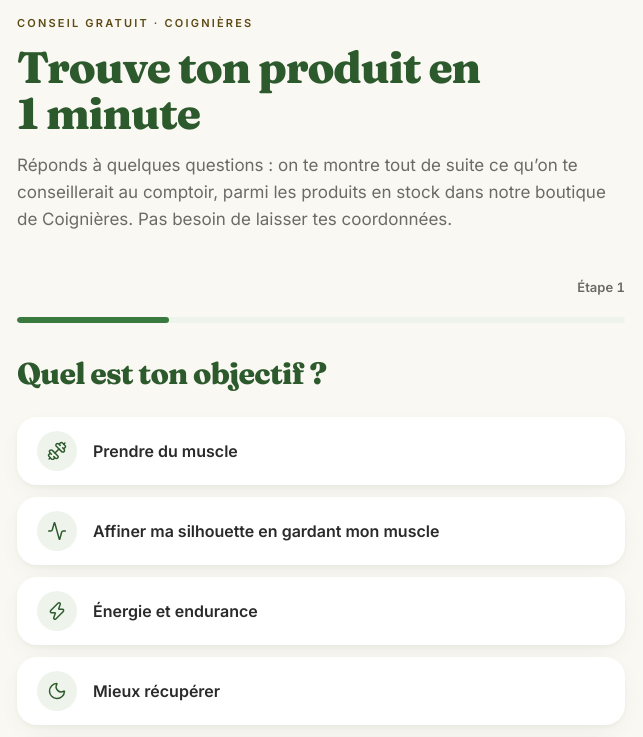
Test: écrans › autre objectif : 4 étapes, pas de question supplémentaire
This screenshot has width=643, height=737.
Click the button "Mieux récupérer": (57, 691) [17, 657, 625, 725]
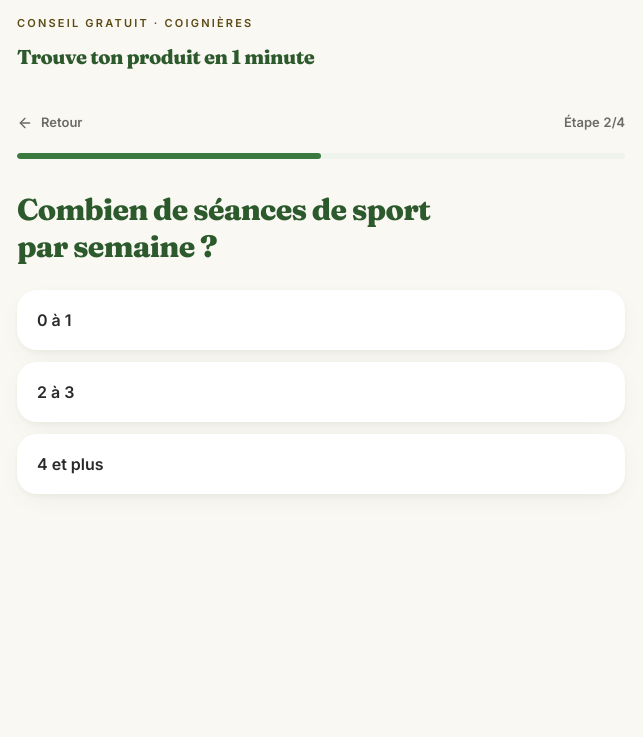
Now the text "Étape 2/4" is shown, box [564, 113, 625, 132]
Click the button "0 à 1": (54, 320) [17, 290, 625, 350]
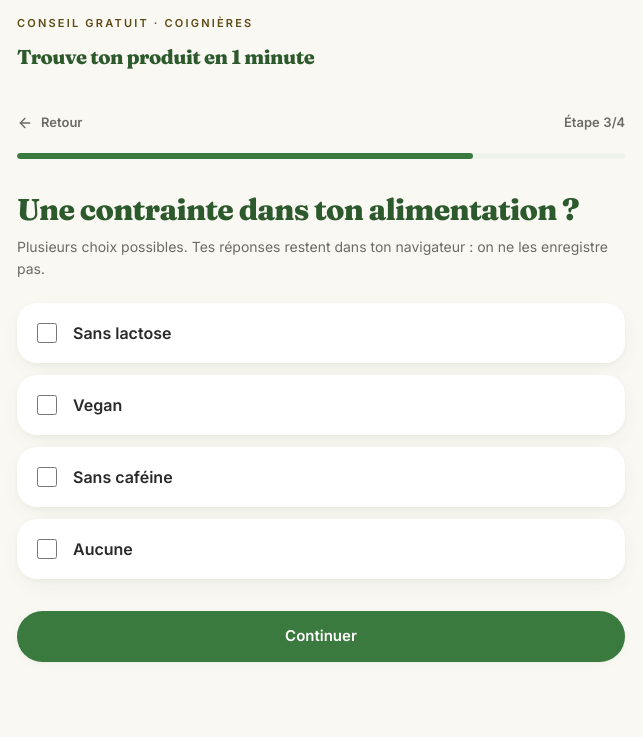
Now the text "Étape 3/4" is shown, box [564, 113, 625, 132]
